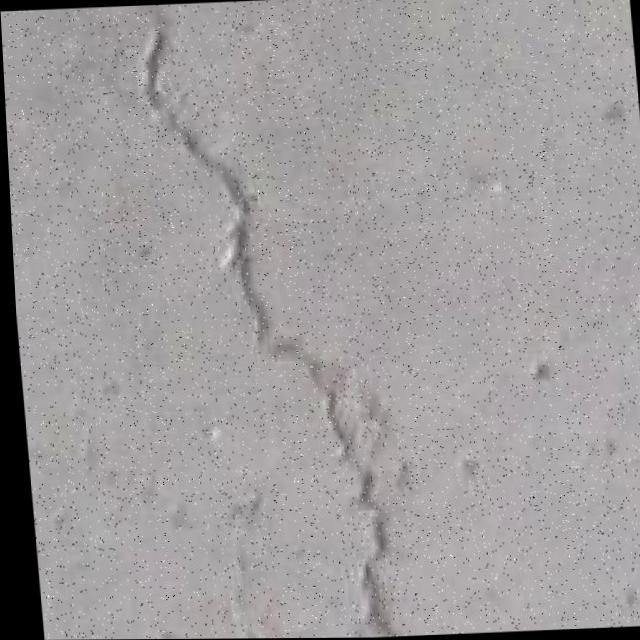Crack: (116, 0, 407, 639)
